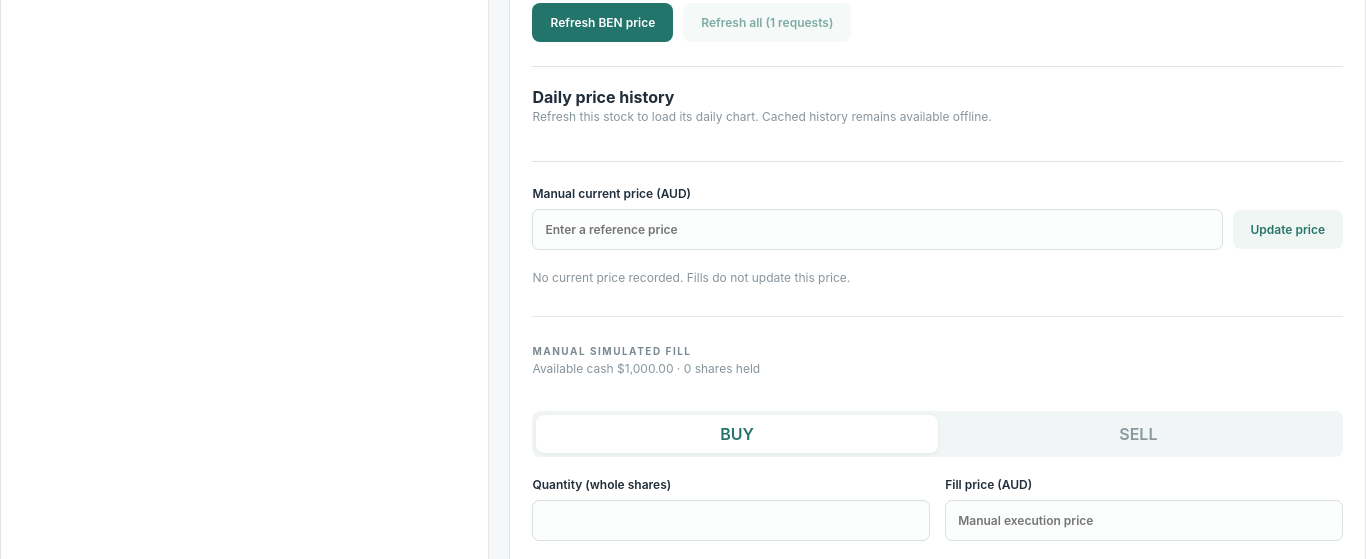
manual trading workflow › saves an exact manual price and exposes its timestamp without executing a fill
(page scrolled)
Type "10.115" into the field labelled "Manual current price (AUD)".
click(878, 230); type("10.115")  # box left=532, top=209, right=1222, bottom=250
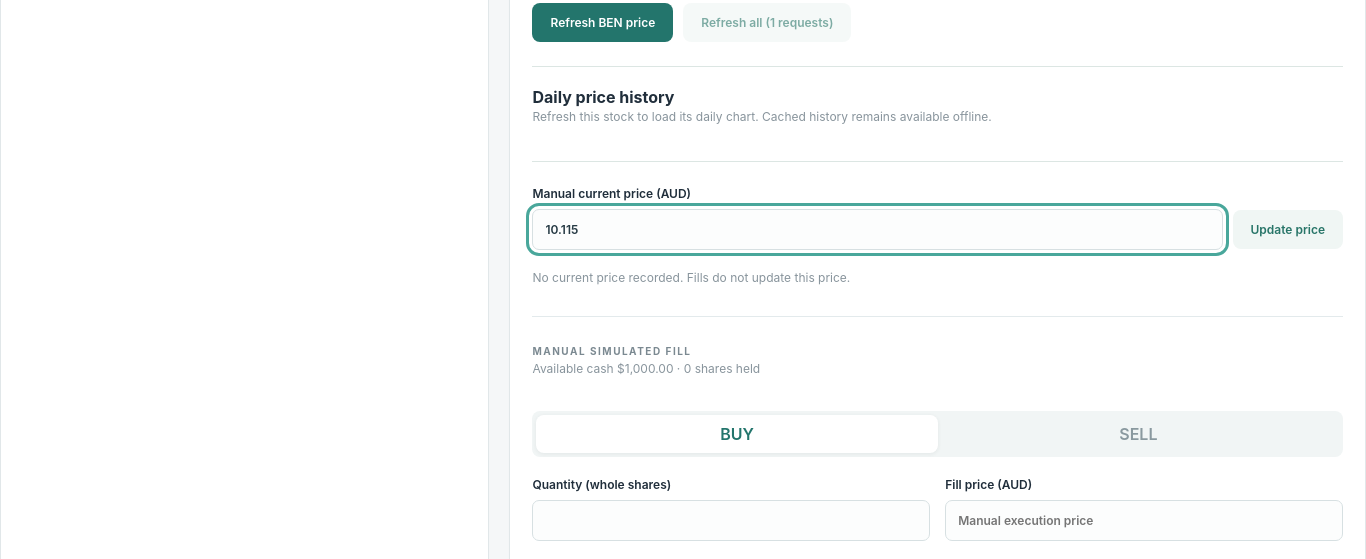
Click the button "Update price".
click(1288, 230)  # box left=1232, top=210, right=1343, bottom=249
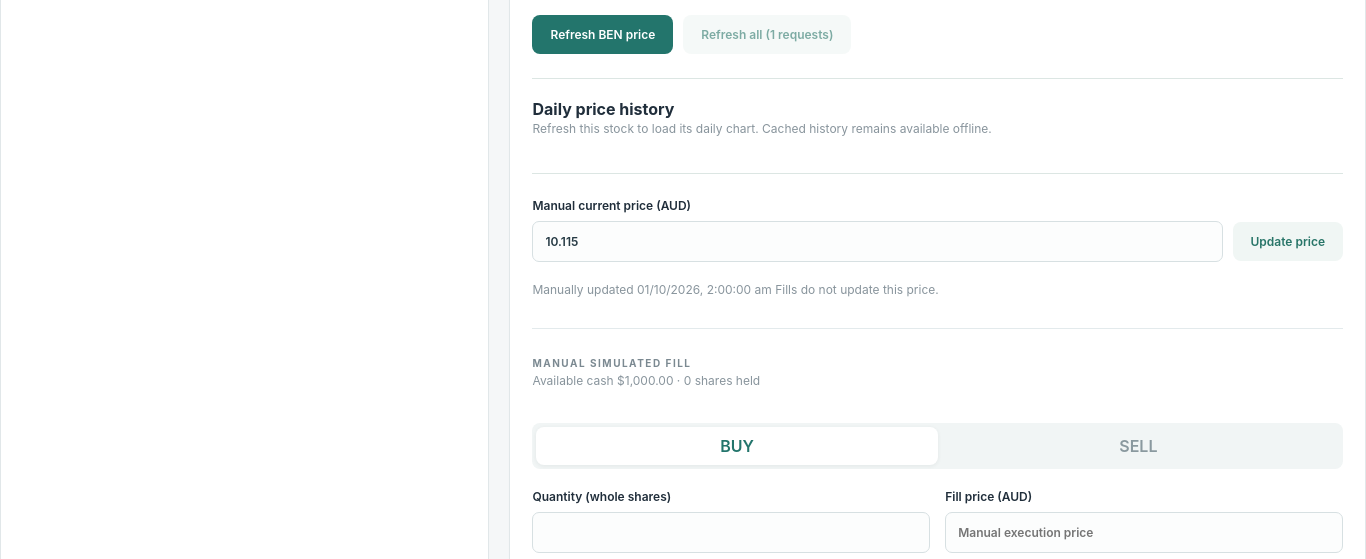
Expected: the text "Manually updated" is shown, left=532, top=282, right=772, bottom=297
